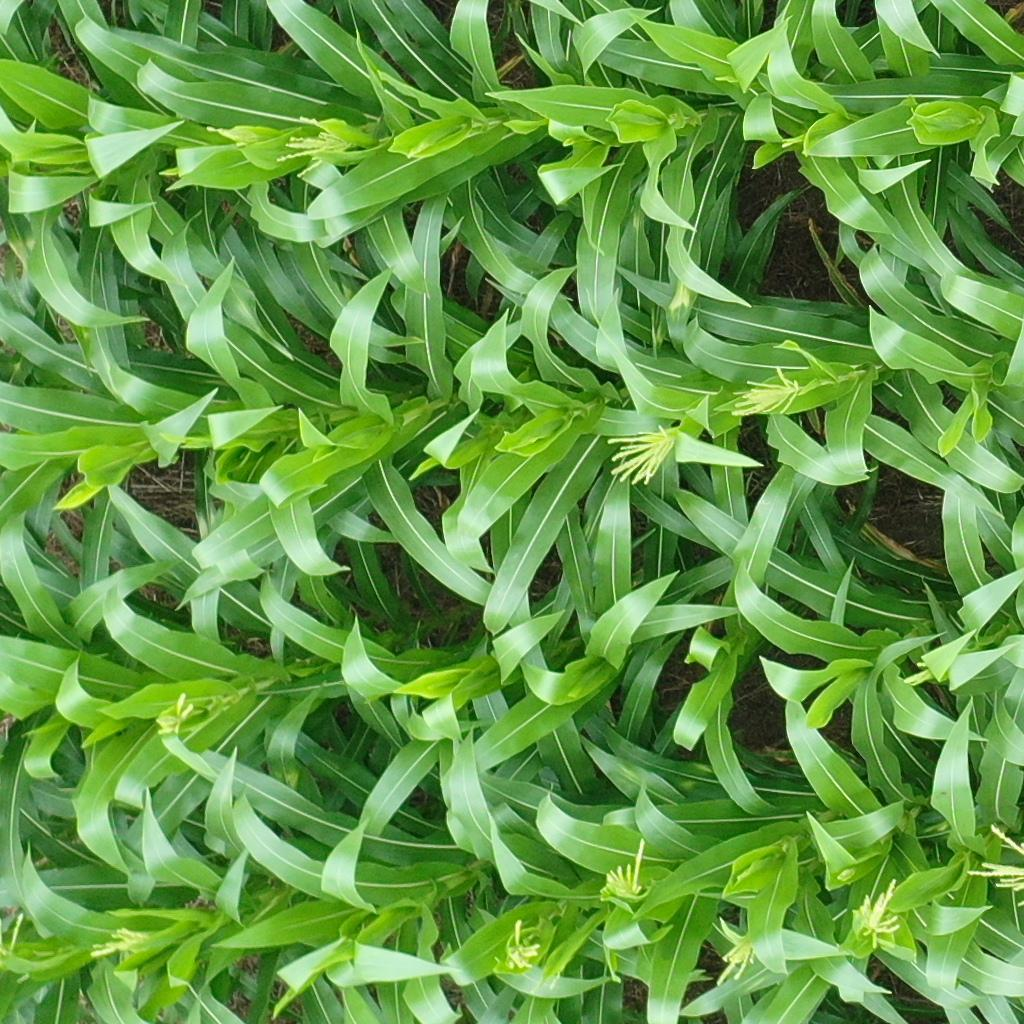Tassel: (966, 818, 1024, 910), (276, 113, 352, 182), (606, 420, 679, 488), (729, 362, 803, 424), (852, 875, 901, 949), (600, 836, 650, 905), (715, 920, 762, 986), (88, 923, 151, 962), (500, 919, 541, 975), (151, 693, 194, 739), (899, 657, 938, 696), (205, 125, 262, 150)
